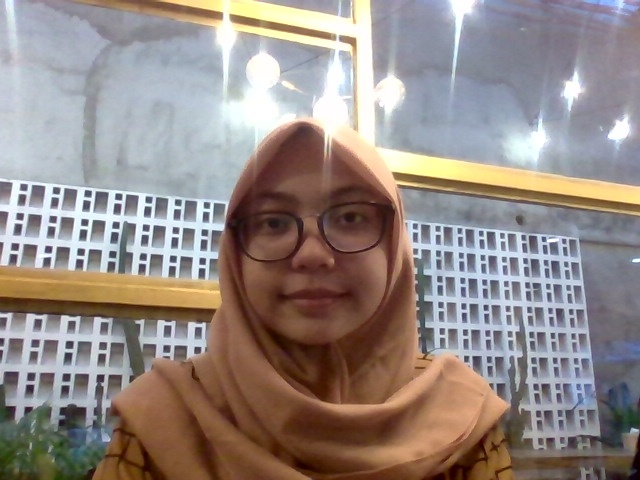Awake: (219, 108, 418, 464)
